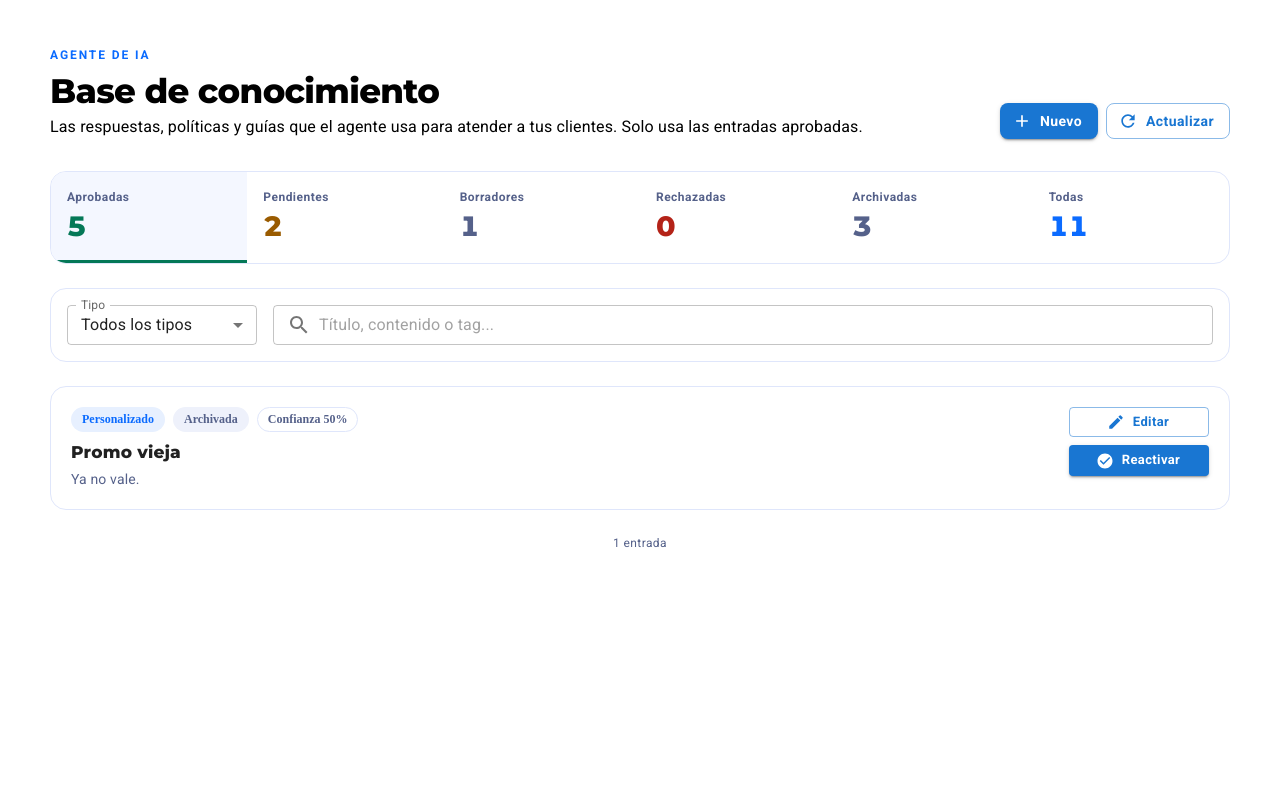
Test case: Conocimiento · acciones según el estado › reactivar una archivada la aprueba y avisa que se reactivó
Click the button "Reactivar" at (1139, 461), box [1069,445,1209,476]
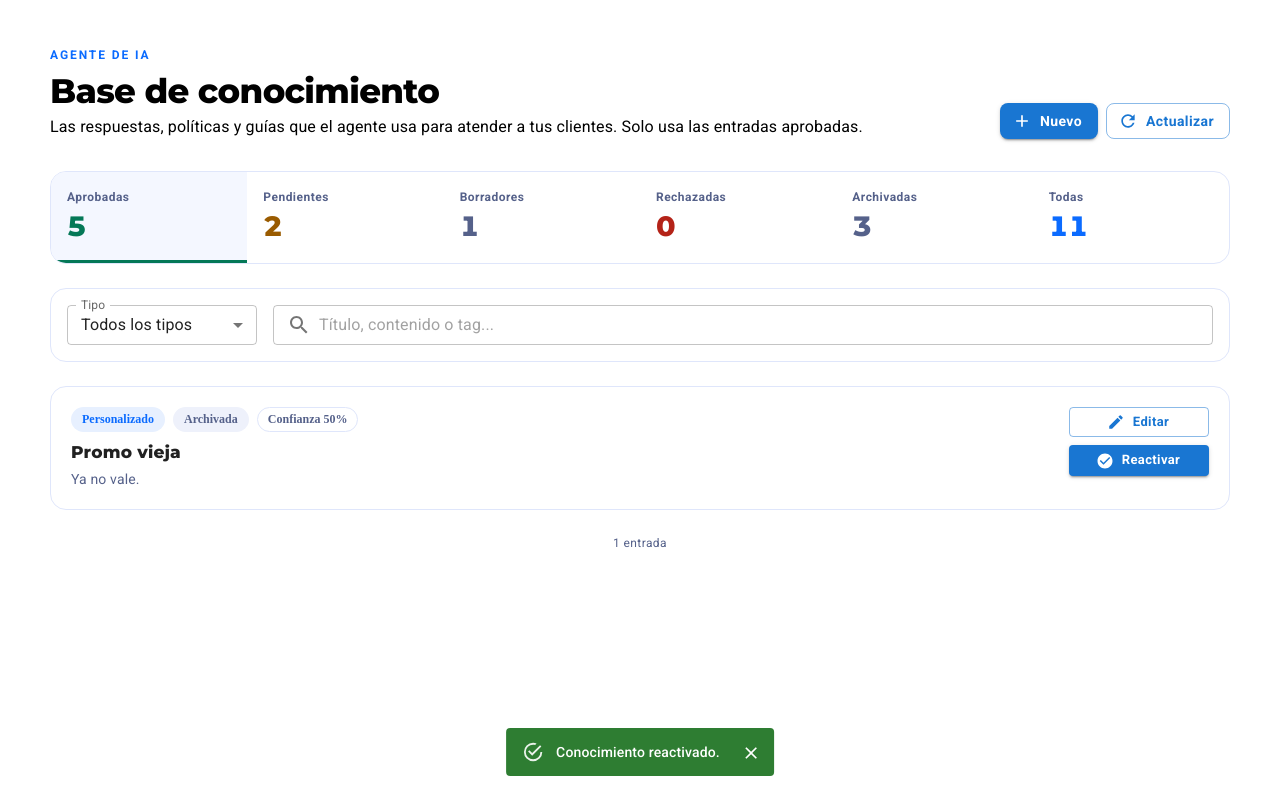
Check: the text "Conocimiento reactivado." is shown, box [556,744,720,760]
